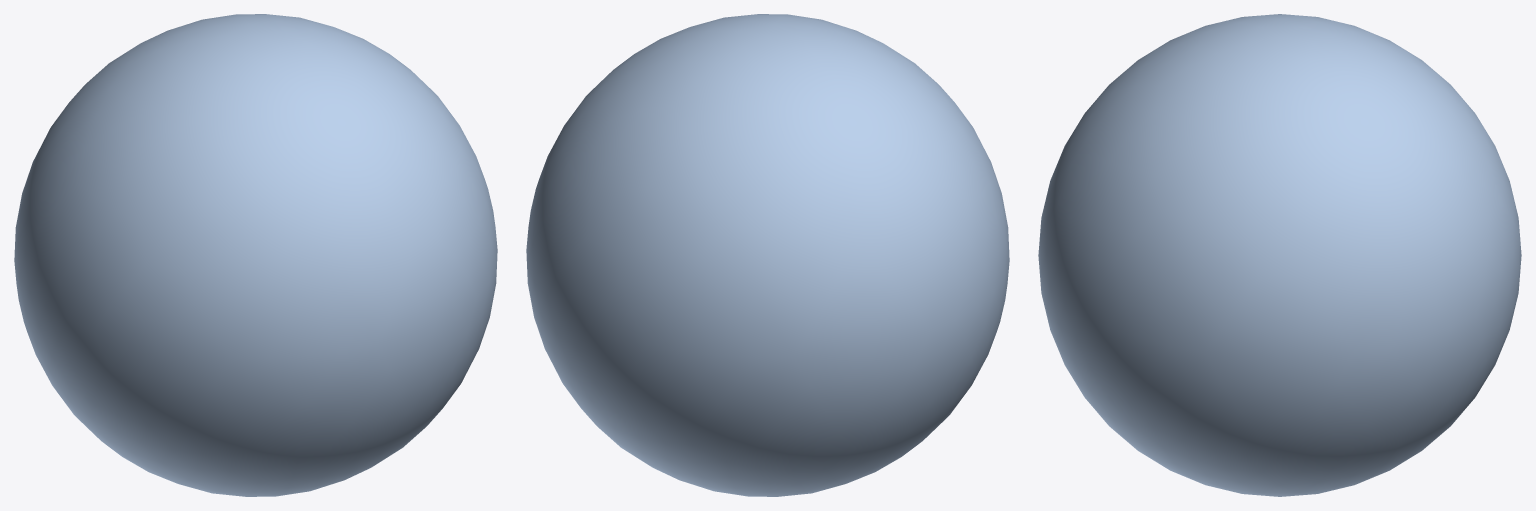
File: bubble.fbx
3 renders of one model, left to right at view 1: azimuth 30°, elevation 25°; view 2: azimuth 150°, elevation 25°; view 3: azimuth 270°, elevation 25°, orthographic.
Parts seen in each view (by area): view 1: Sphere; view 2: Sphere; view 3: Sphere.
Part boxes in pixels (bbox=[...]): Sphere: bbox=[14, 14, 497, 496]; Sphere: bbox=[526, 14, 1009, 496]; Sphere: bbox=[1038, 14, 1521, 496].
Size of the model in its own units: 2 by 2 by 2.
